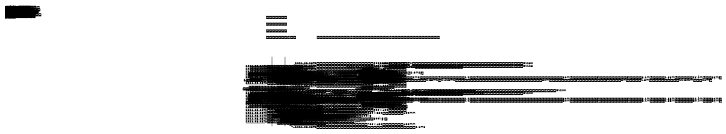room: (499, 28, 510, 32), (501, 54, 506, 60), (501, 31, 506, 36), (494, 52, 501, 55), (494, 28, 501, 31), (501, 52, 510, 54), (506, 33, 512, 36), (506, 58, 512, 60), (506, 56, 512, 58), (506, 31, 512, 33), (501, 28, 506, 30), (507, 29, 510, 31), (494, 31, 499, 32), (497, 55, 501, 56), (510, 29, 512, 31), (508, 11, 510, 13), (490, 51, 494, 52), (490, 27, 494, 28), (490, 8, 494, 9), (646, 51, 650, 52), (646, 27, 650, 28), (506, 55, 509, 56), (509, 55, 512, 56), (509, 54, 512, 55), (506, 54, 509, 55), (509, 53, 512, 54), (494, 55, 497, 56), (494, 30, 497, 31), (449, 31, 452, 32), (451, 55, 454, 56), (451, 31, 454, 32), (451, 29, 454, 30), (444, 52, 447, 53), (510, 52, 512, 53), (508, 52, 510, 53), (504, 54, 506, 55), (497, 30, 499, 31), (510, 28, 512, 29), (647, 62, 649, 63), (503, 57, 504, 58), (503, 58, 504, 59), (507, 52, 508, 53), (506, 52, 507, 53), (503, 54, 504, 55), (503, 33, 504, 34), (503, 16, 504, 17), (503, 15, 504, 16), (503, 14, 504, 15), (658, 34, 659, 35), (501, 12, 502, 13), (503, 34, 504, 34), (508, 28, 510, 28), (657, 56, 658, 56), (654, 32, 655, 32), (655, 32, 656, 32)
wall: (510, 28, 534, 49), (657, 56, 690, 71), (504, 57, 534, 71), (506, 19, 534, 32), (506, 55, 534, 65), (508, 0, 534, 9), (656, 32, 690, 38), (479, 22, 504, 30), (658, 35, 690, 41), (479, 55, 505, 62), (479, 6, 504, 12), (479, 49, 503, 55), (510, 25, 534, 31), (506, 28, 534, 33), (511, 46, 534, 52), (509, 54, 534, 59), (635, 32, 654, 38), (479, 58, 495, 65), (507, 12, 534, 16), (479, 15, 504, 19), (479, 36, 497, 41), (479, 55, 501, 59), (509, 10, 534, 13), (510, 49, 534, 52), (511, 32, 534, 35), (479, 9, 501, 12), (479, 64, 494, 68), (479, 14, 505, 16), (510, 9, 534, 11), (479, 28, 501, 30), (479, 36, 499, 38), (639, 63, 648, 67), (506, 34, 534, 35), (509, 54, 534, 55), (512, 32, 534, 33), (479, 34, 500, 35), (479, 31, 495, 32), (507, 13, 534, 13), (507, 52, 534, 52), (479, 55, 497, 55)
